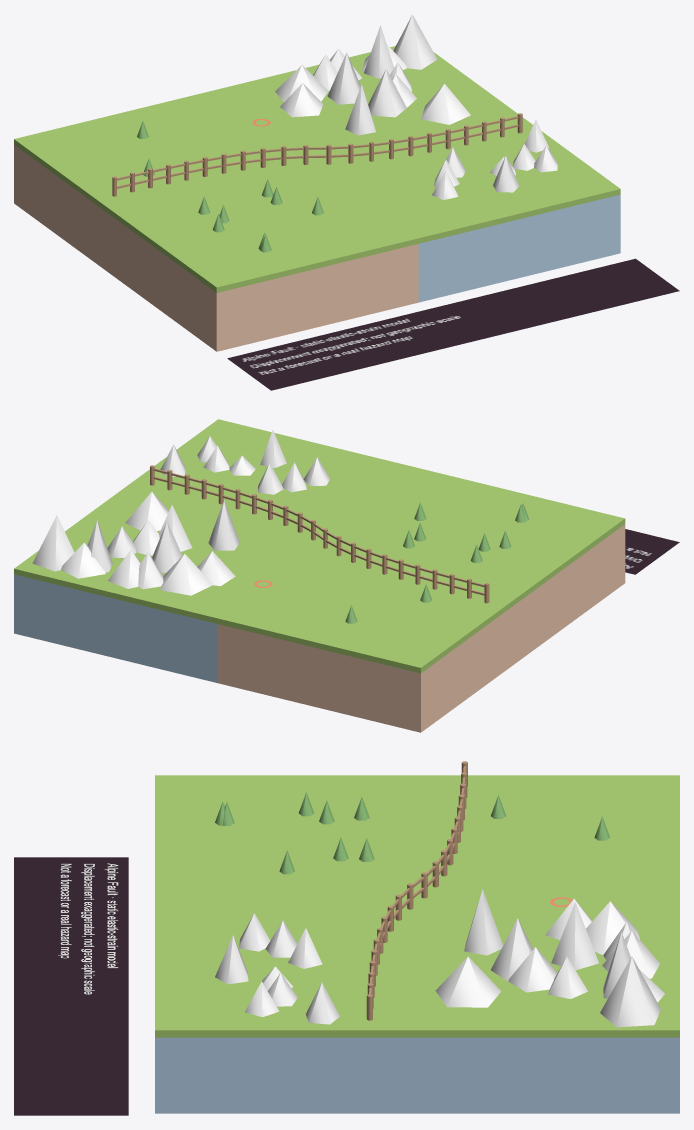
Rendered from shaky.glb.
The picture shows the model from 3 angles, top to bottom: view 1: azimuth 30°, elevation 25°; view 2: azimuth 150°, elevation 25°; view 3: azimuth 270°, elevation 25°; orthographic projection. The views are drawn at different scales.
Visible parts, largest first — view 1: shaky_authored_teaching_model, Scale_and_credit; view 2: shaky_authored_teaching_model, Scale_and_credit; view 3: shaky_authored_teaching_model, Scale_and_credit.
Boxes of the visible parts, left/top/right/bottom form: shaky_authored_teaching_model: left=14, top=14, right=620, bottom=351; Scale_and_credit: left=227, top=258, right=679, bottom=390; shaky_authored_teaching_model: left=14, top=419, right=625, bottom=732; Scale_and_credit: left=625, top=529, right=679, bottom=574; shaky_authored_teaching_model: left=155, top=761, right=679, bottom=1113; Scale_and_credit: left=14, top=857, right=128, bottom=1115.
Bounding box in the file's own units: 0.4655 × 0.1211 × 0.5073.
Materials: 9 (1 with a texture image).
